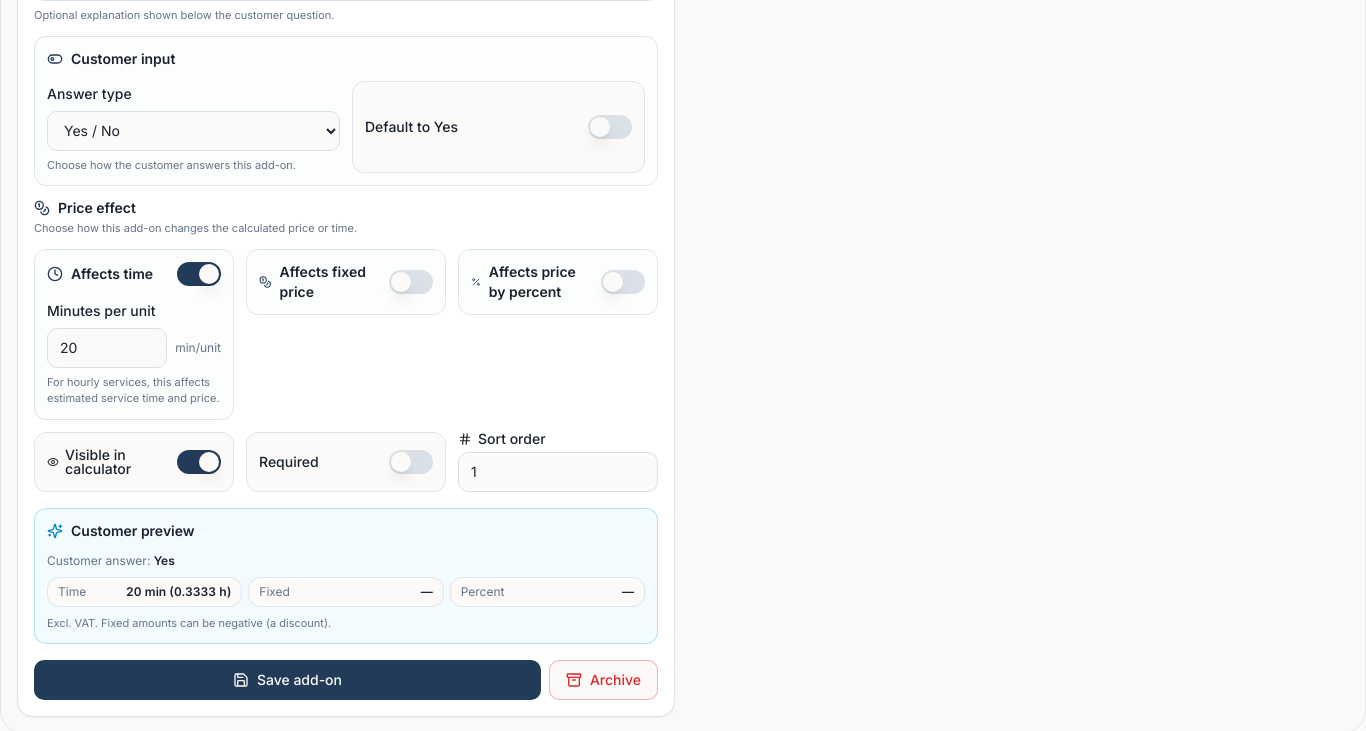
Test case: CalculatorAddonsEditor › blocks an out-of-range time effect and does not save
(page scrolled)
Replace the text in the number field labelled "Minutes per unit" with "2000" at (107, 348), box top-left (47, 328), bottom-right (167, 368)
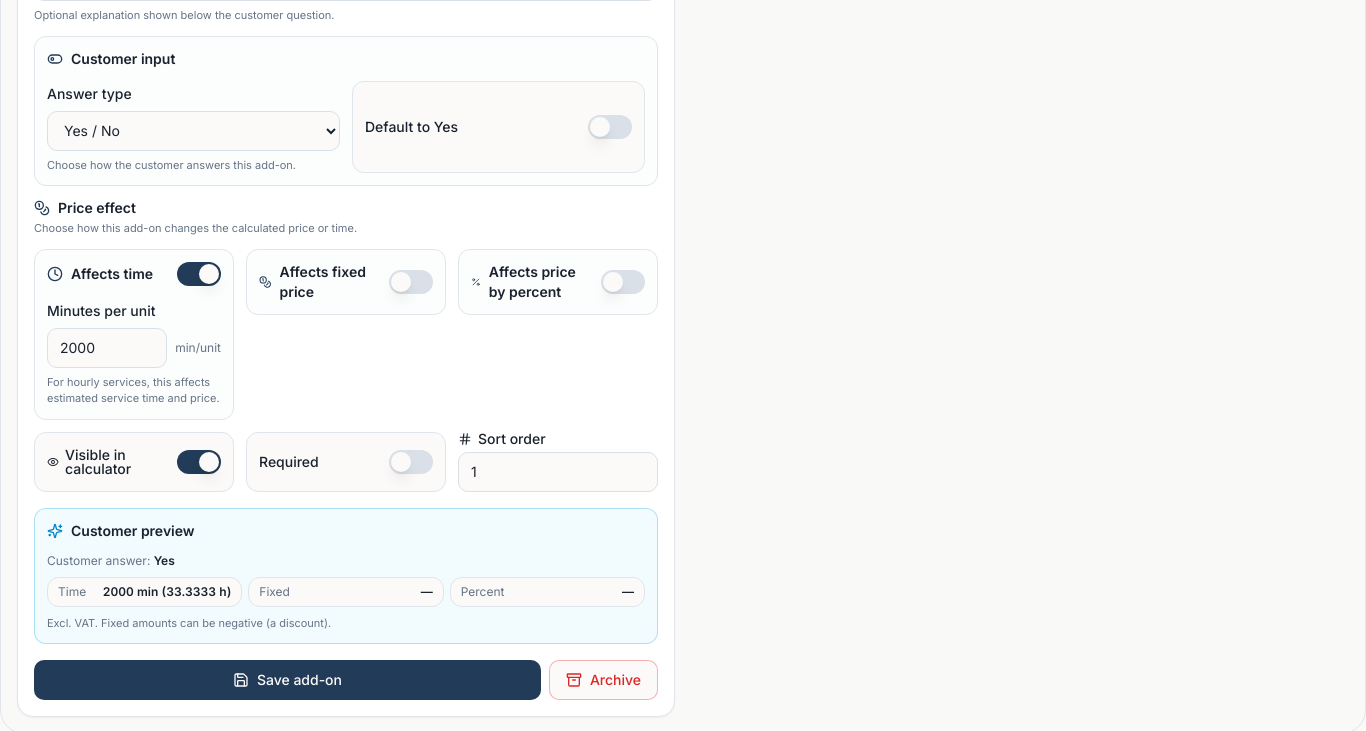
Click the button "Save add-on" at (287, 680), box top-left (34, 660), bottom-right (541, 700)
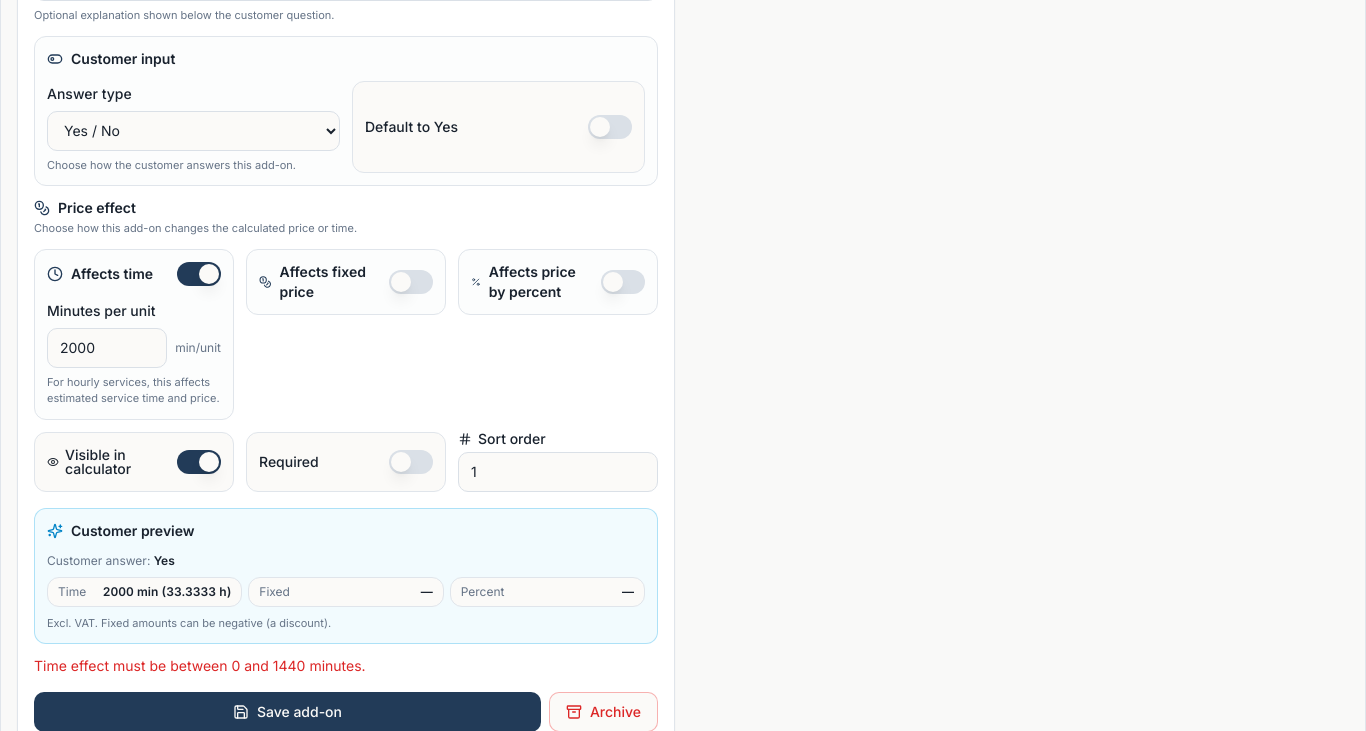
Result: the list item "Time effect must be between 0 and 1440 minutes." is shown at top-left (34, 656), bottom-right (366, 674)
